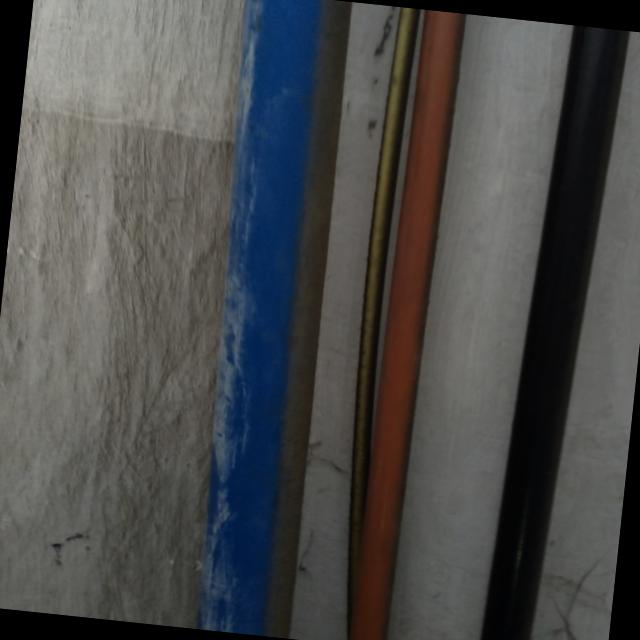gas: (180, 0, 340, 636), (473, 24, 626, 640), (347, 8, 465, 640)
